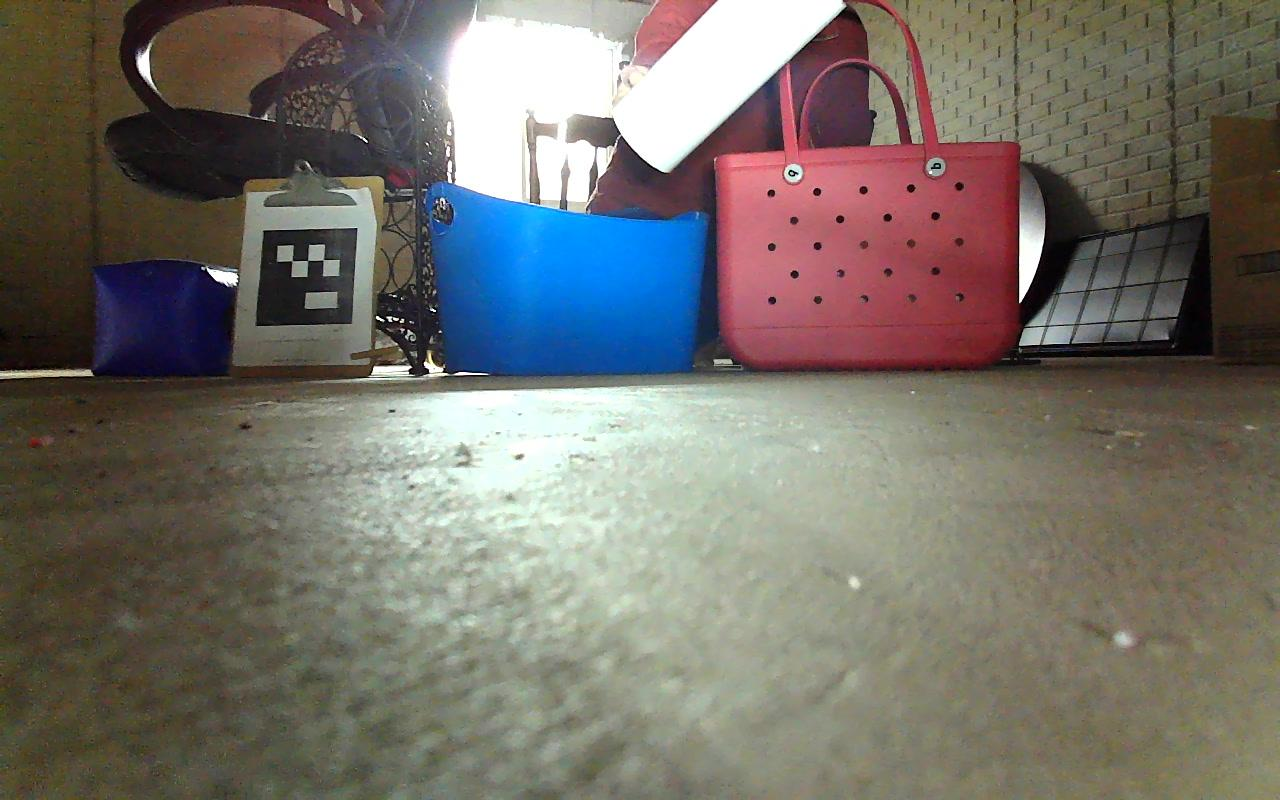coral: (607, 0, 852, 176)
